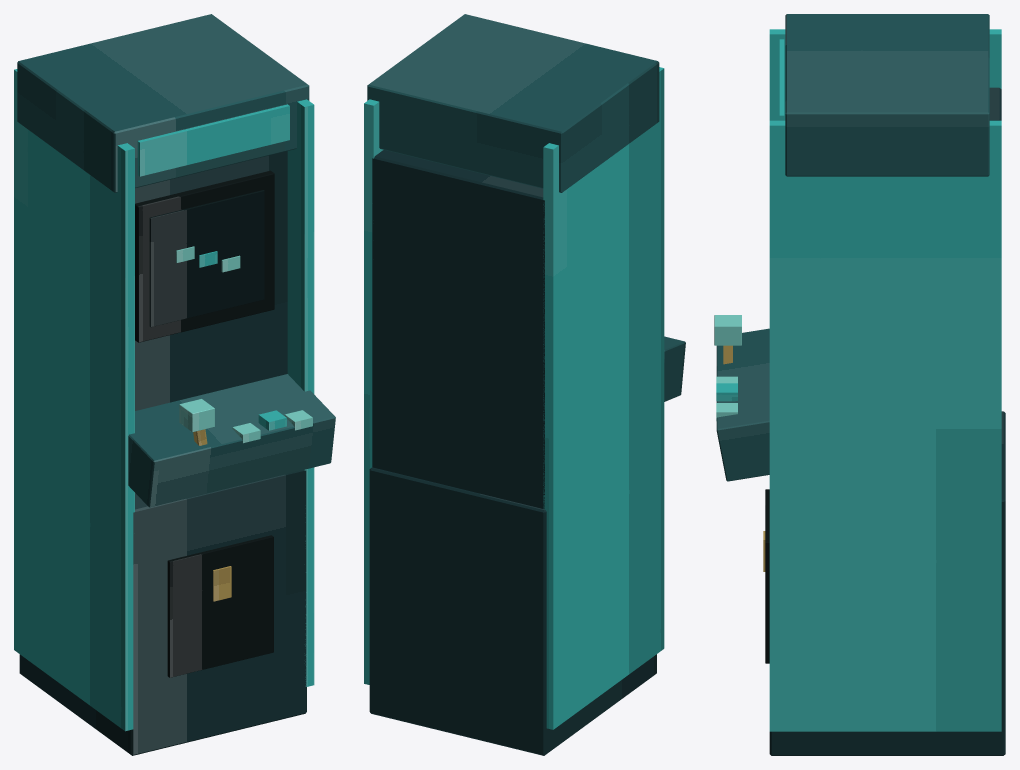
Rendered from arcade_cabinet_teal.glb.
3 views of the same model, side by side, from view 1: azimuth 30°, elevation 25°; view 2: azimuth 150°, elevation 25°; view 3: azimuth 270°, elevation 25° (orthographic). The views are drawn at different scales.
Parts seen in each view (by area): view 1: EdgeTrim_L, CabinetBase, Marquee, ControlDeck, CabinetUpper, ScreenGlass, CoinDoor, EdgeTrim_R, ScreenRecess, MarqueeFace, JoystickTop, CoinSlot; view 2: EdgeTrim_L, CabinetUpper, CabinetBase, Marquee, EdgeTrim_R, ControlDeck; view 3: EdgeTrim_R, Marquee, CabinetBase, ControlDeck, EdgeTrim_L, CoinDoor, JoystickTop.
Boxes of the visible parts, x1,y1,x2,y2 form: EdgeTrim_L: (14,69,134,731); CabinetBase: (19,470,306,755); Marquee: (17,14,309,192); ControlDeck: (128,374,335,507); CabinetUpper: (135,151,287,493); ScreenGlass: (149,190,264,327); CoinDoor: (167,535,273,677); EdgeTrim_R: (287,99,314,686); ScreenRecess: (135,170,274,342); MarqueeFace: (137,104,289,176); JoystickTop: (179,399,214,432); CoinSlot: (213,566,231,601); EdgeTrim_L: (543,67,664,729); CabinetUpper: (372,150,544,508); CabinetBase: (369,467,656,755); Marquee: (367,14,659,192); EdgeTrim_R: (364,99,383,684); ControlDeck: (664,336,685,401); EdgeTrim_R: (769,120,1001,731); Marquee: (785,14,989,176); CabinetBase: (769,411,1005,755); ControlDeck: (716,328,769,481); EdgeTrim_L: (769,29,1001,120); CoinDoor: (765,489,769,663); JoystickTop: (714,315,741,345).
Bounding box in the file's own units: 0.6 × 1.82 × 0.74.
Materials: 1 (1 with a texture image).
